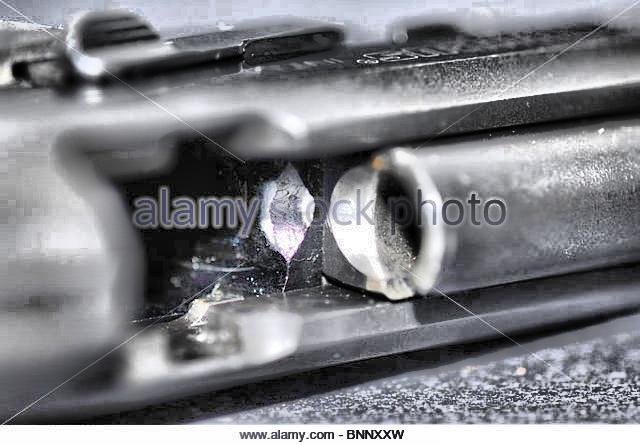pistol: (1, 9, 640, 425)
